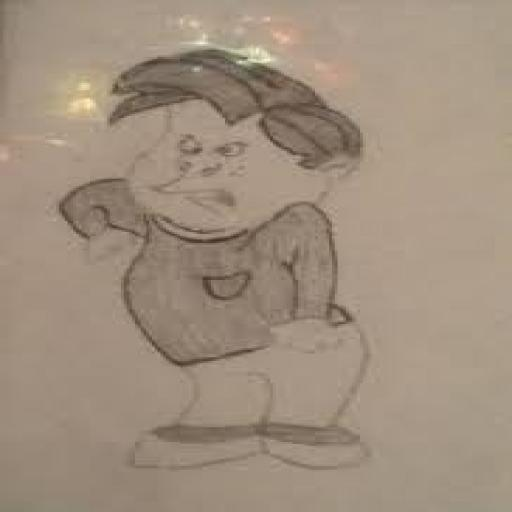person: (56, 38, 382, 493)
